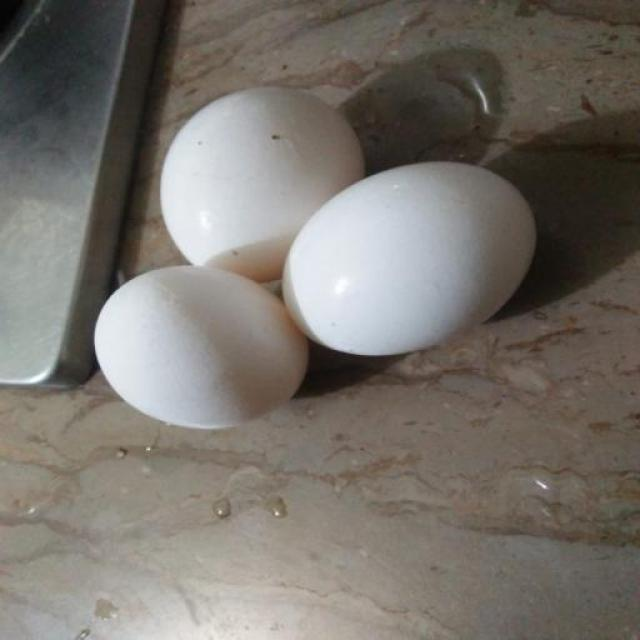telur: (275, 148, 541, 362), (159, 88, 363, 280), (95, 265, 307, 429)
